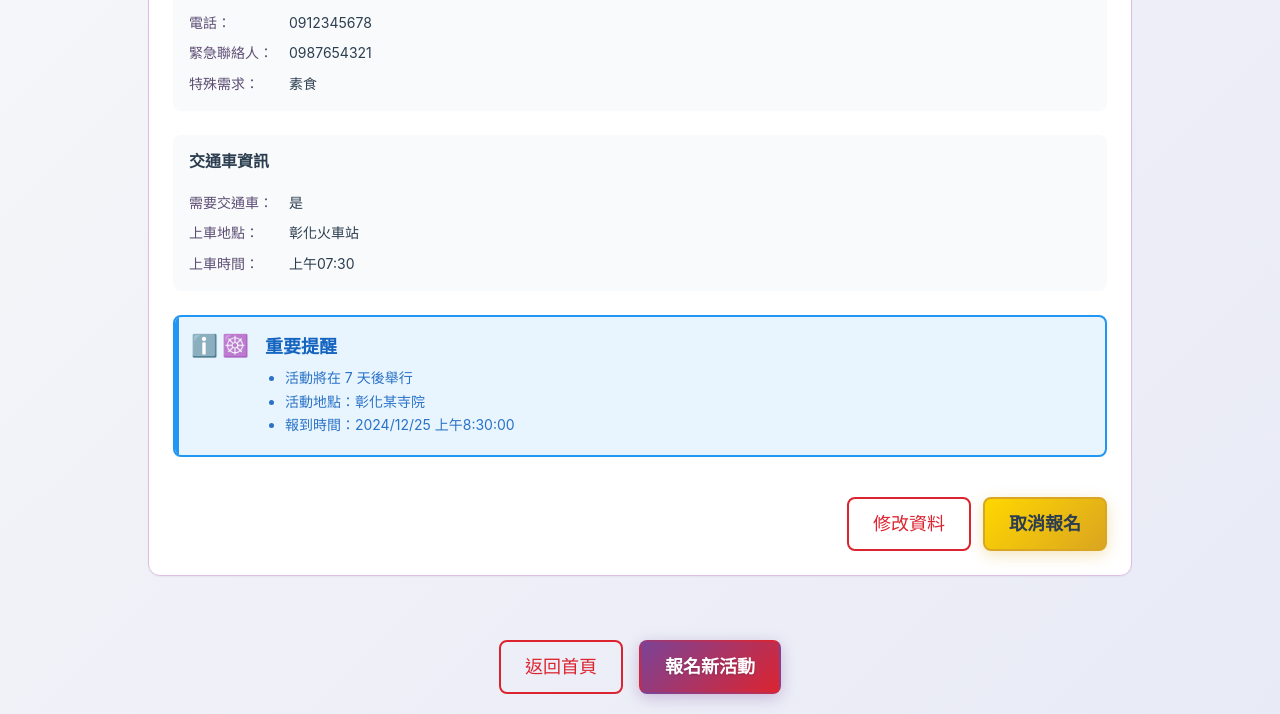
Test: Registration Status Query Integration Tests › 編輯功能 › 應該開啟編輯模態框當點擊編輯按鈕時
(page scrolled)
Click the button "修改資料" at [909, 524], box x1=847 y1=497 x2=971 y2=551
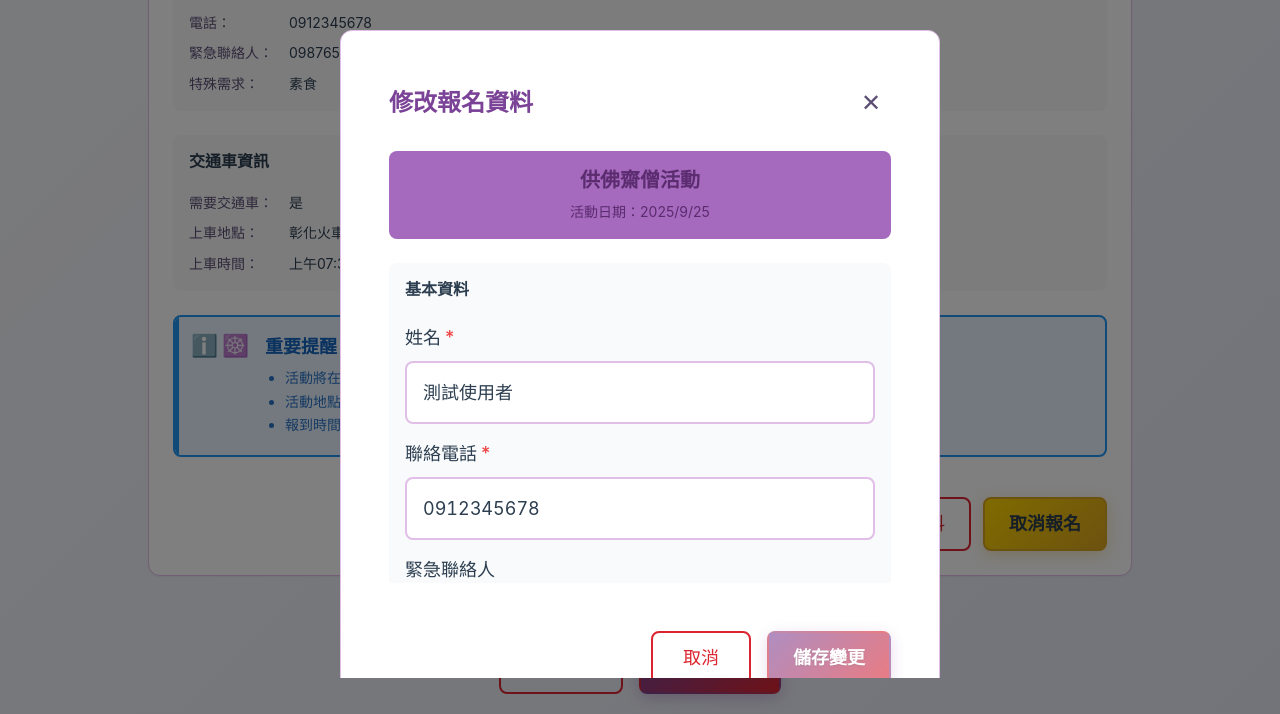
Check: the heading "修改報名資料" is shown, box x1=389 y1=87 x2=533 y2=119
Check: the field showing "測試使用者" is shown, box x1=405 y1=361 x2=875 y2=424
Check: the field showing "0912345678" is shown, box x1=405 y1=477 x2=875 y2=540
